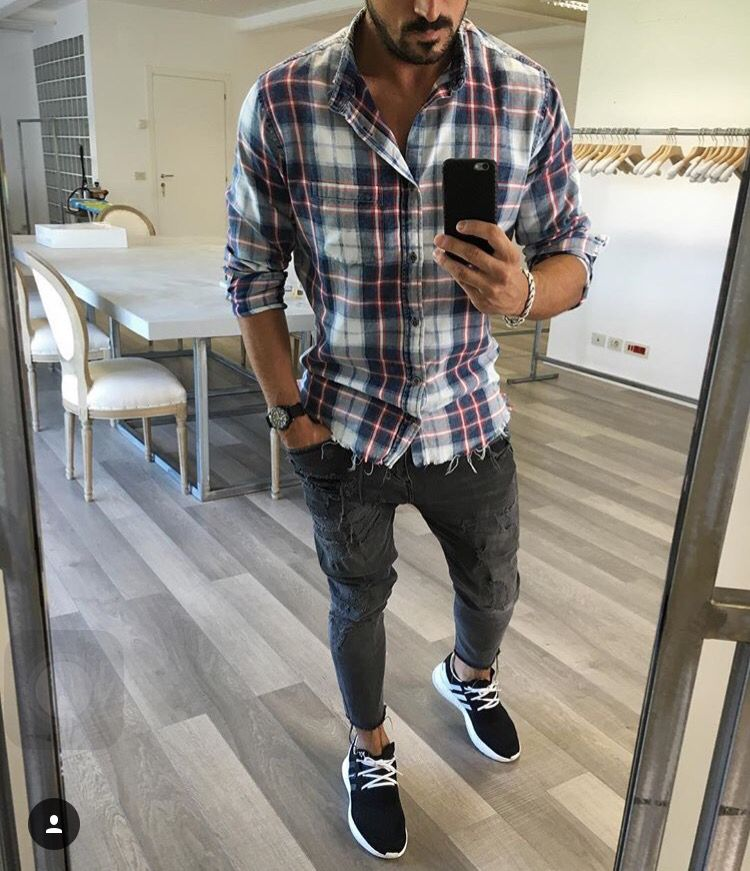squared: (215, 11, 606, 471)
